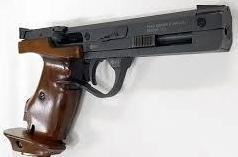gun: (1, 1, 238, 157)
